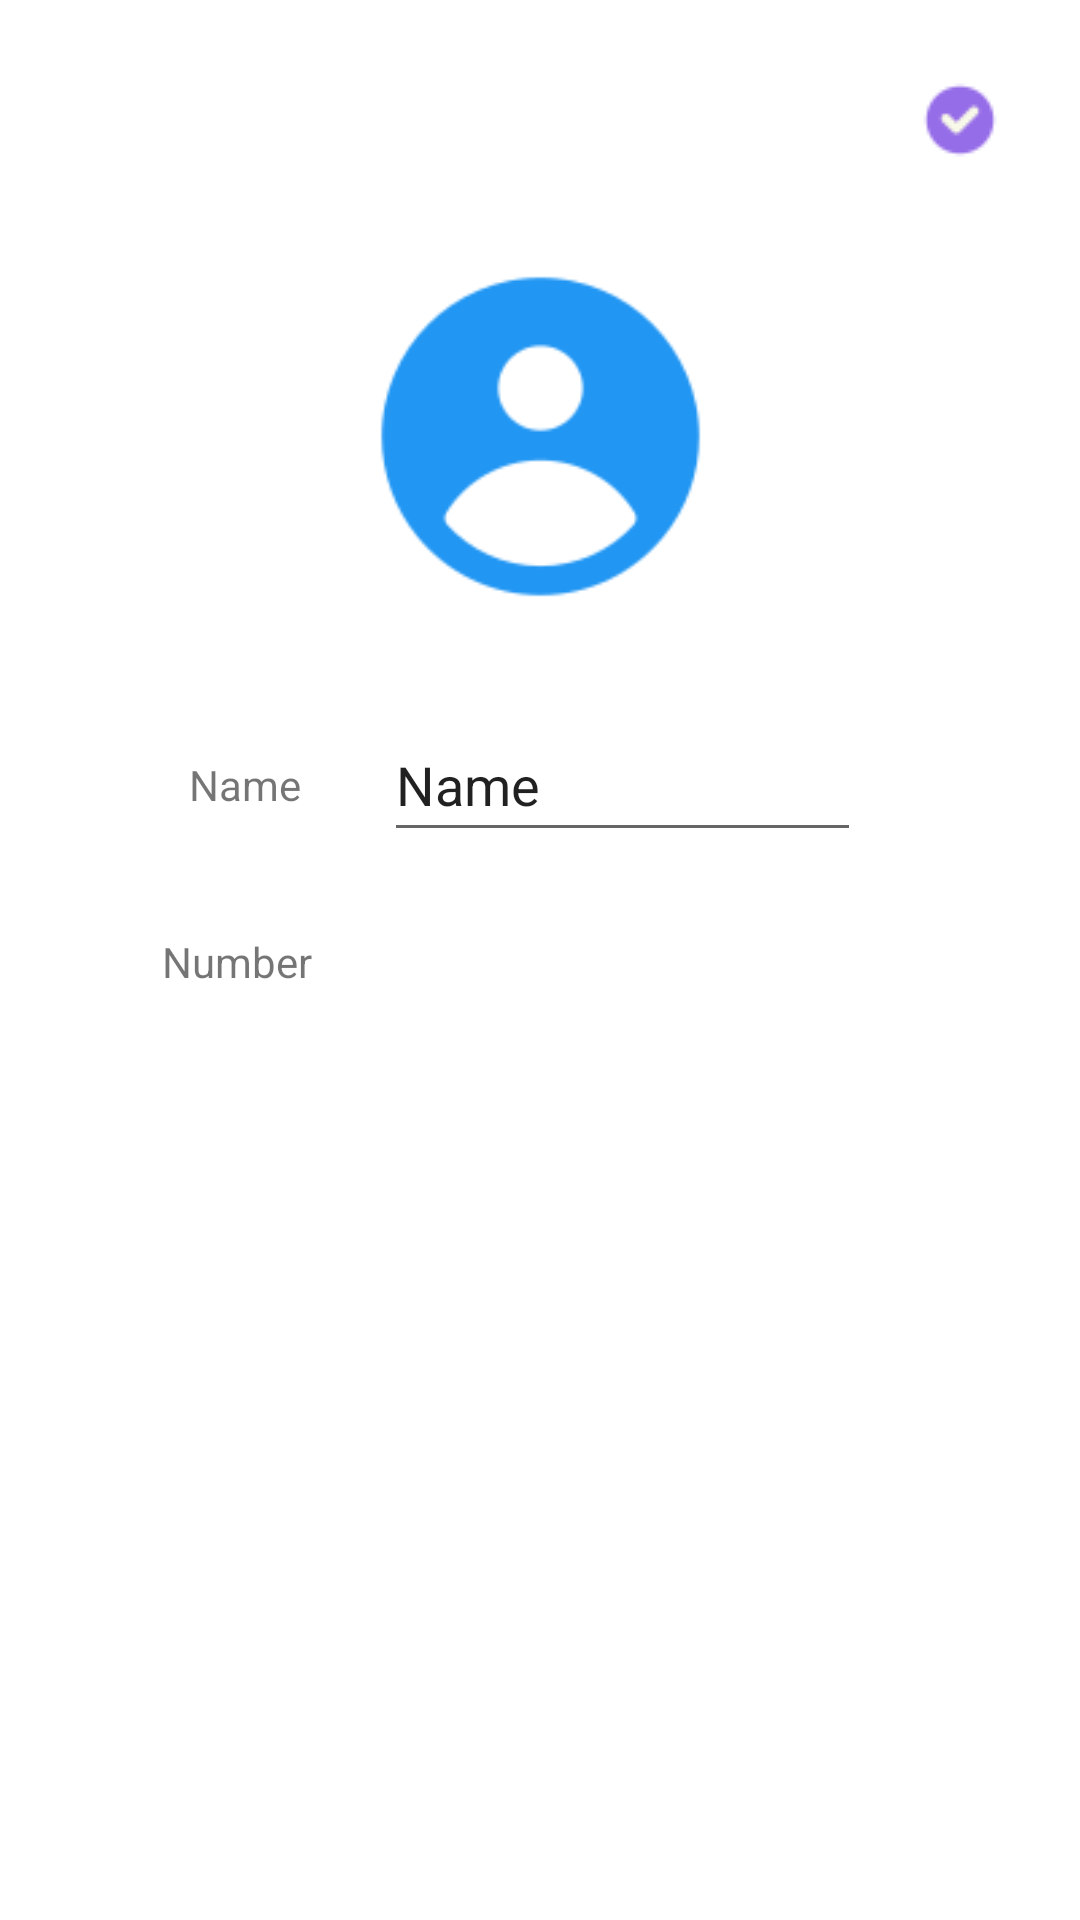

Where icons sit on this 1080 x 1920 app screen, as (x1, y1, x2, y2):
done: (925, 85, 995, 155)
man: (380, 276, 701, 597)
